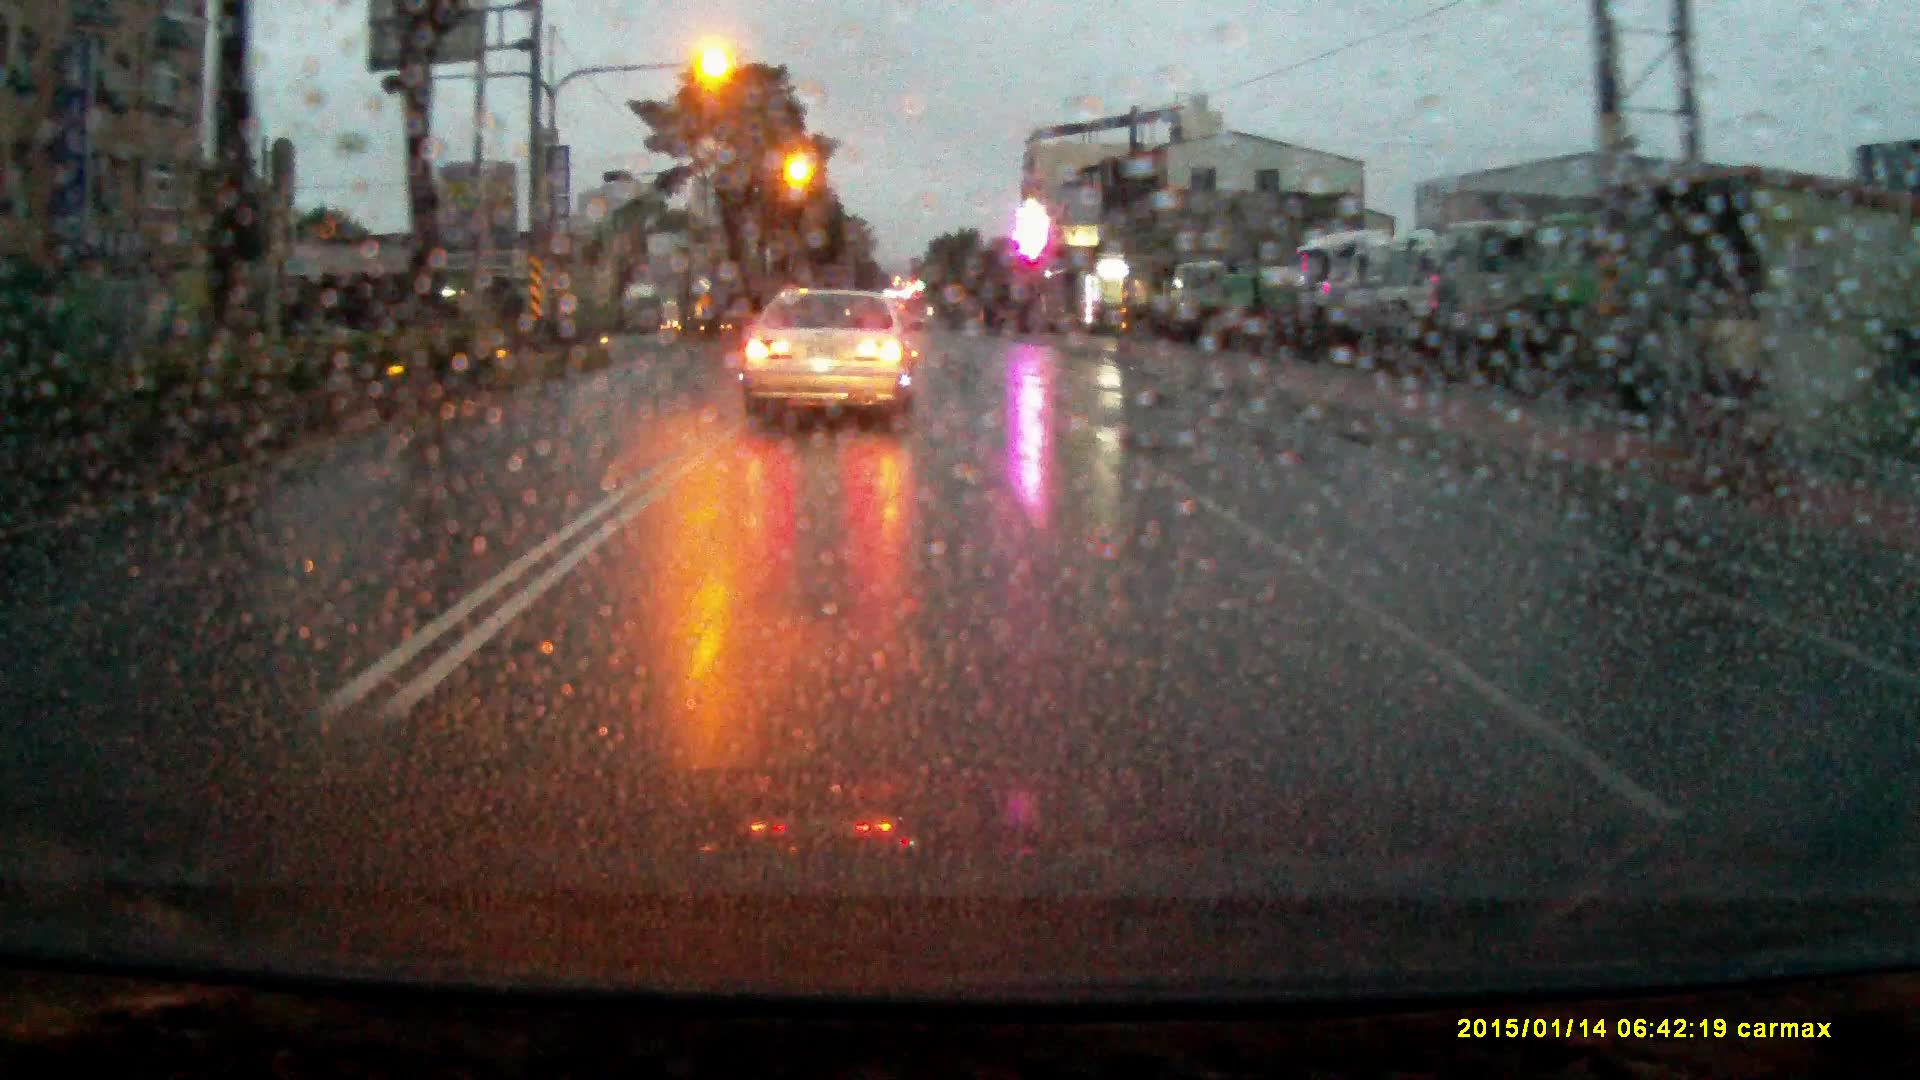vehicle: (741, 290, 922, 433), (1527, 212, 1639, 384), (1432, 223, 1548, 382), (1349, 232, 1448, 361), (1303, 237, 1390, 345), (1209, 266, 1313, 328), (1174, 260, 1233, 334), (622, 286, 680, 334)
